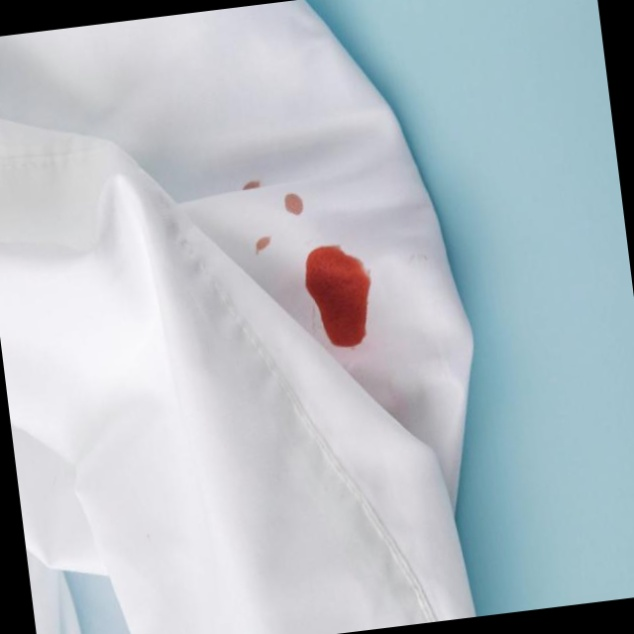blood: (294, 242, 384, 359), (236, 170, 314, 259)
